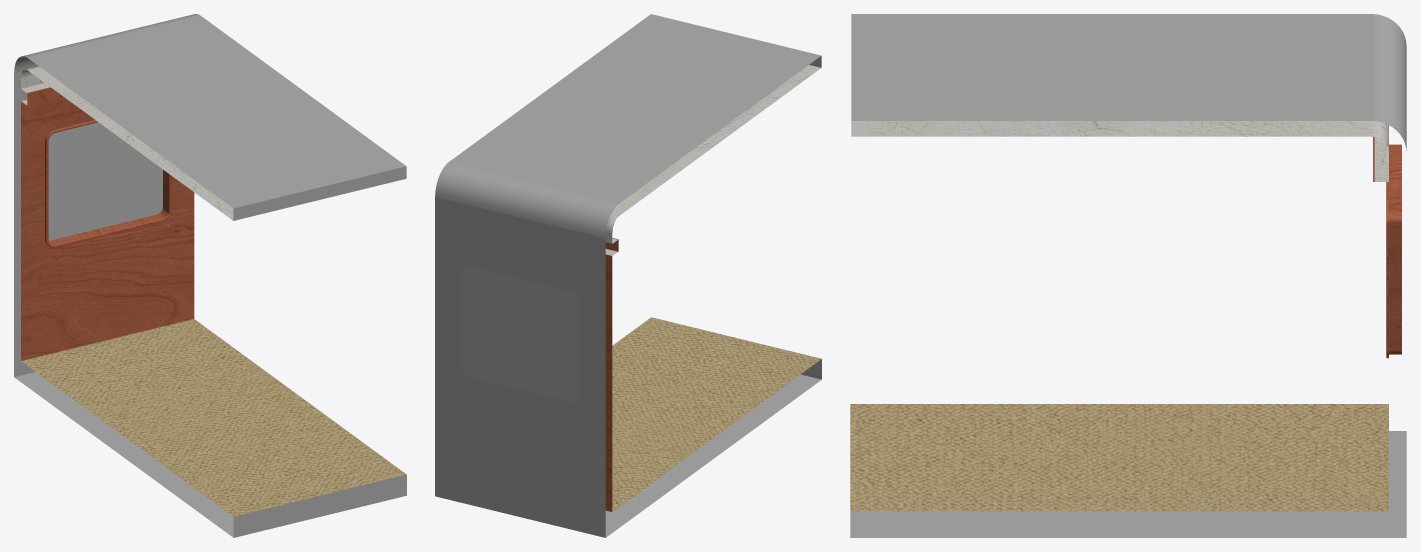
Rendered from interiorWindow1.fbx.
3 views of the same model, side by side, from view 1: azimuth 30°, elevation 25°; view 2: azimuth 150°, elevation 25°; view 3: azimuth 270°, elevation 25° (orthographic). The views are drawn at different scales.
Parts seen in each view (by area): view 1: pPipe2; view 2: pPipe2; view 3: pPipe2.
Part boxes in pixels (x1,y1,x2,y2): pPipe2: (14,14,406,537); pPipe2: (435,14,821,537); pPipe2: (850,14,1406,537).
Bounding box in the file's own units: 3.51 × 6.37 × 7.71.
Materials: 6 (3 with a texture image).
